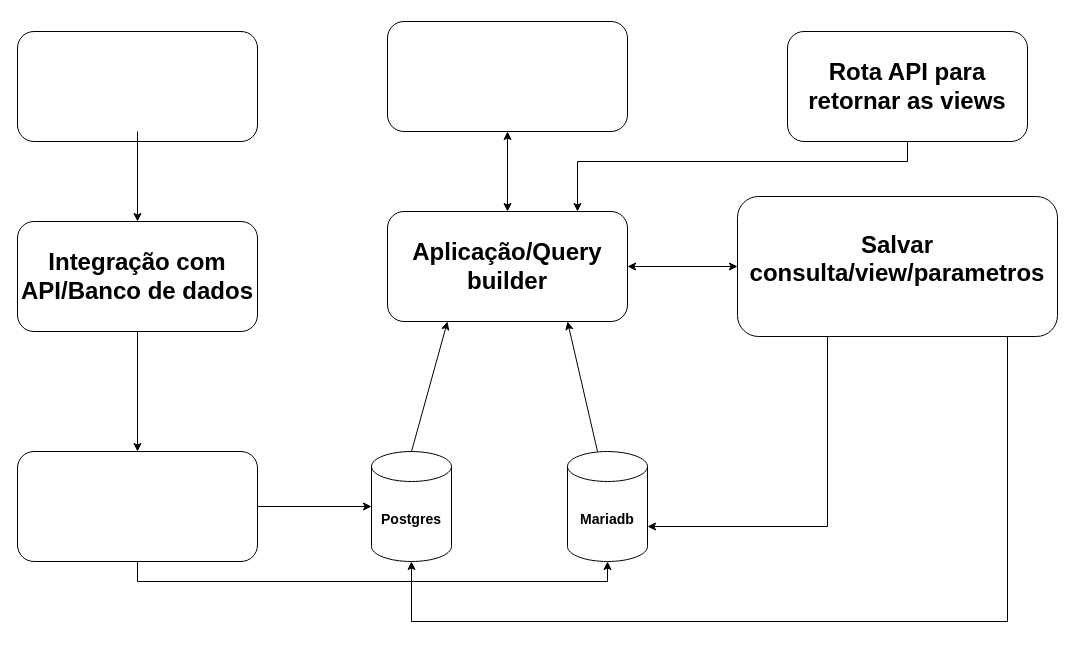
Some shapes in this 1075 by 647 pixel diagram are drawn without their labels. Here are the shapes that lost their labels. From the top down, the centre of each, then its label:
At point 137,86: "Criação de conexão com banco de dados/API".
At point 507,76: "Página web/Formulário criar consultas".
At point 137,506: "importar dados da API para inserir na base de dados".
